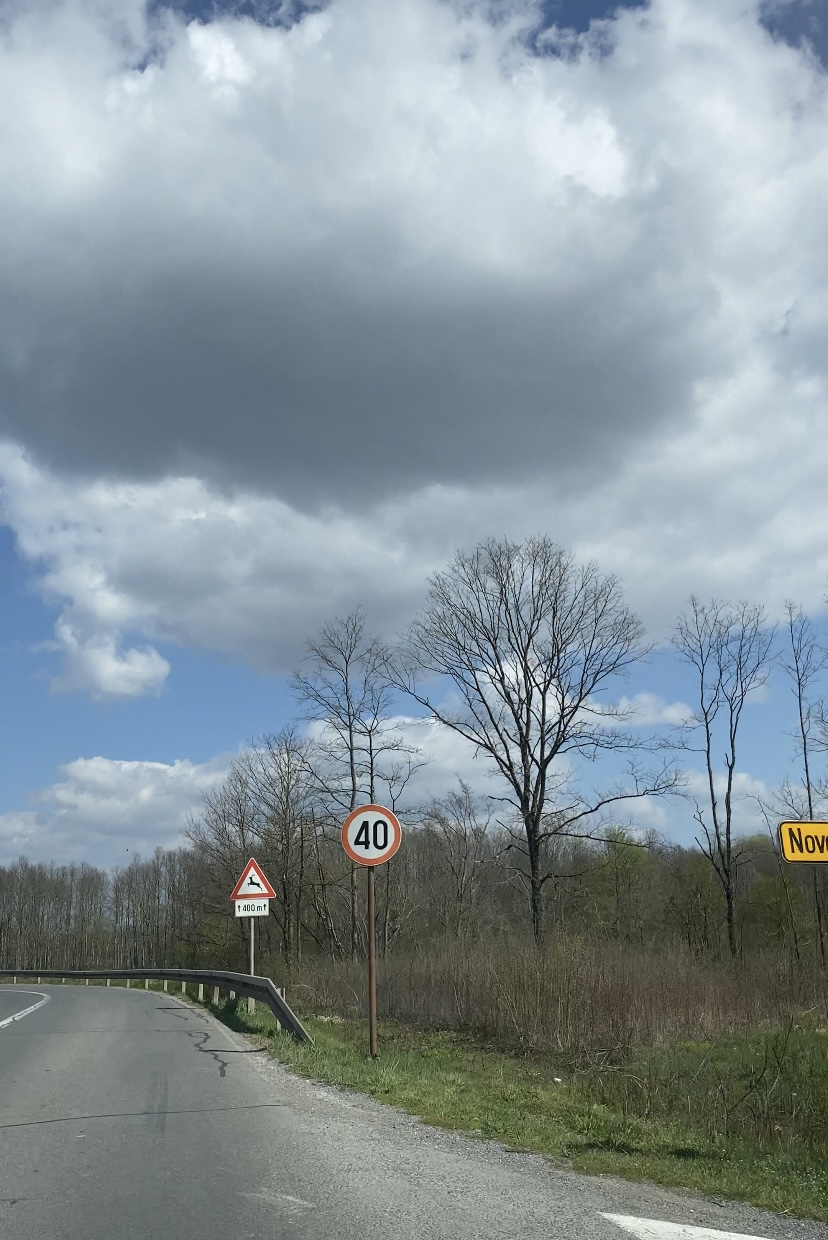Divljač na cesti: (229, 857, 276, 899)
Ograničenje brzine 40: (341, 805, 401, 866)
